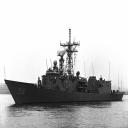Fragata: (5, 28, 127, 107)
